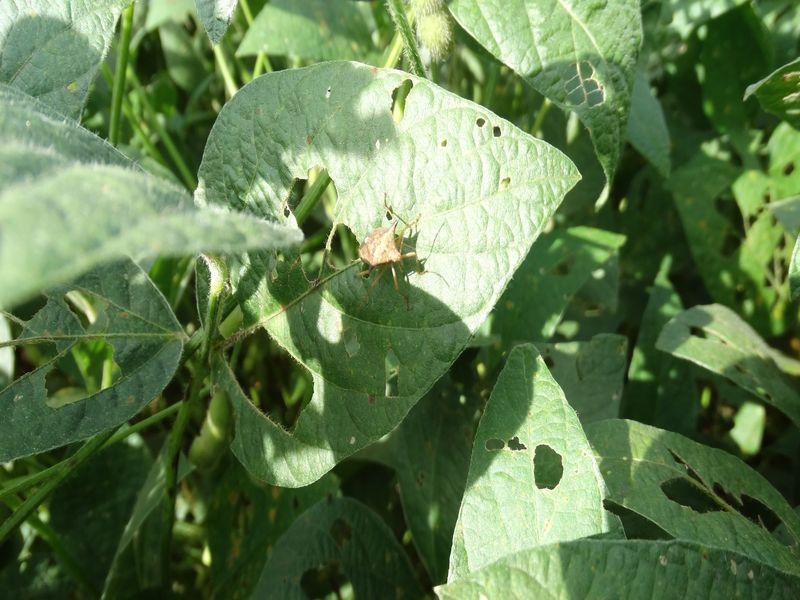Euschistus_heros_adulto: (345, 214, 433, 306)
